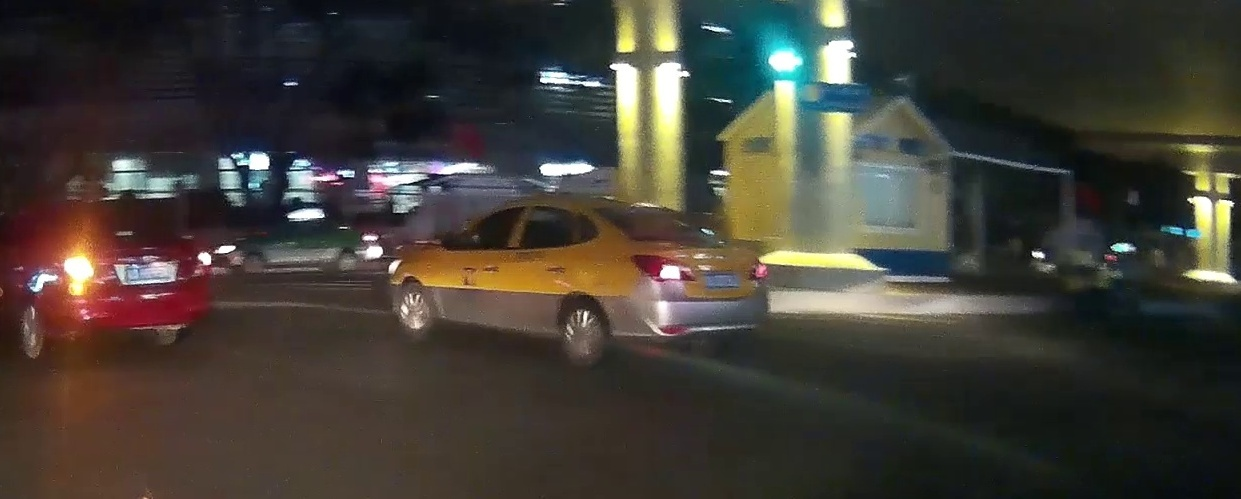L_light: (630, 254, 696, 282), (65, 259, 99, 283)
R_light: (185, 253, 208, 276), (749, 259, 767, 280)
T_light: (104, 217, 125, 222), (641, 208, 662, 211)
night-left: (58, 210, 211, 357)
night-no: (586, 201, 768, 366)
